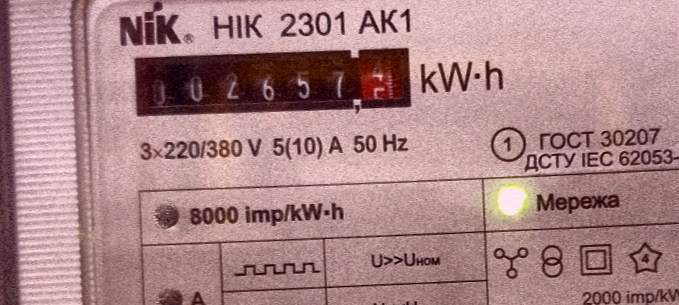0: (188, 70, 205, 101), (150, 74, 168, 103)
2: (224, 68, 242, 98)
4: (370, 53, 386, 79)
5: (295, 66, 313, 98), (372, 82, 388, 98)
6: (260, 69, 276, 99)
7: (331, 65, 348, 98)
screen: (125, 28, 424, 131)
